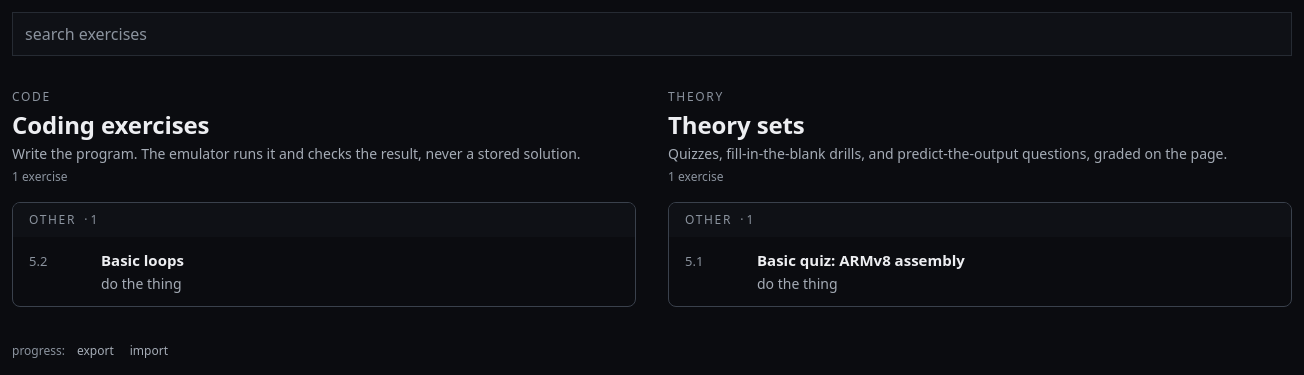
Test: ExerciseIndex › finds a title from two words typed in another order
Step 1. Type "armv8 quiz" into the search field labelled "search exercises" → (652, 34), box [12,12,1292,56]
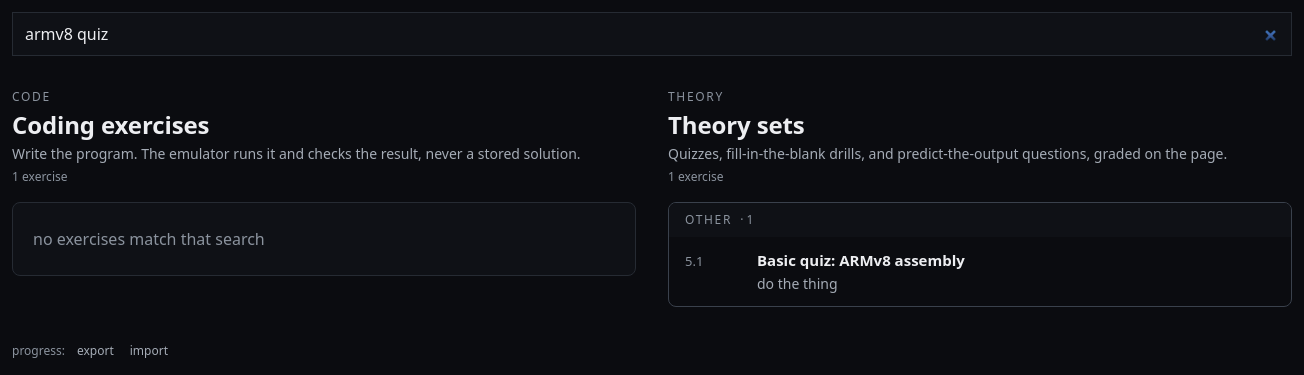
Expected: the text "Basic quiz: ARMv8 assembly" is shown, [757,250,965,270]
Expected: the link "Basic loops" is gone
